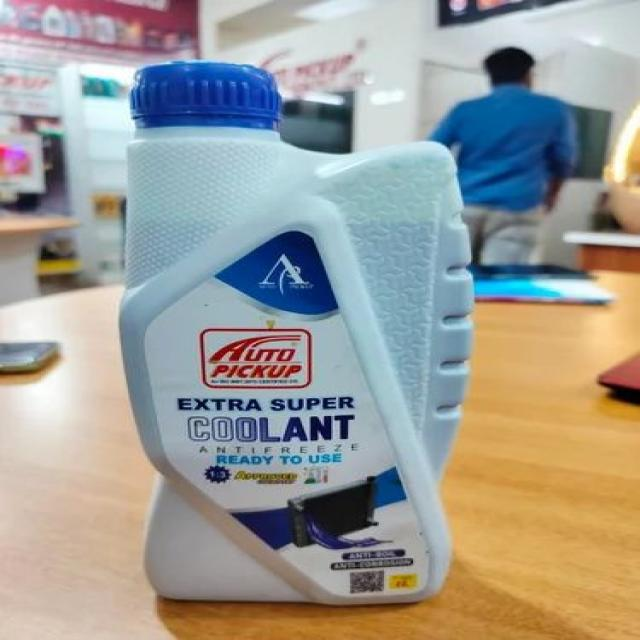coolant: (109, 56, 484, 616)
